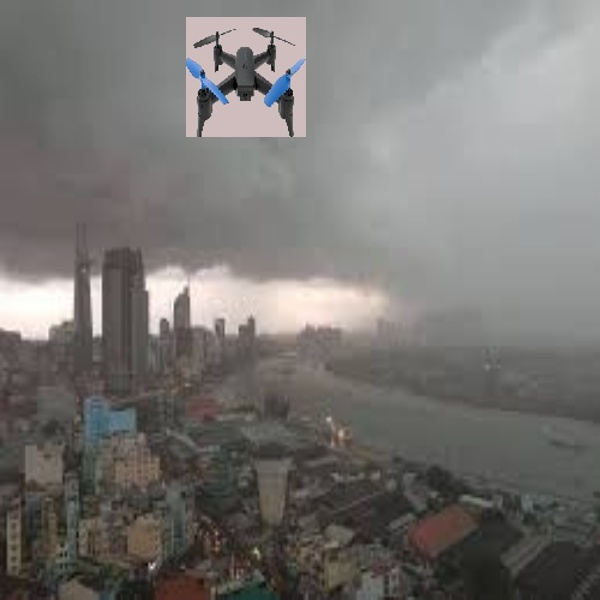drone: (183, 17, 306, 135)
